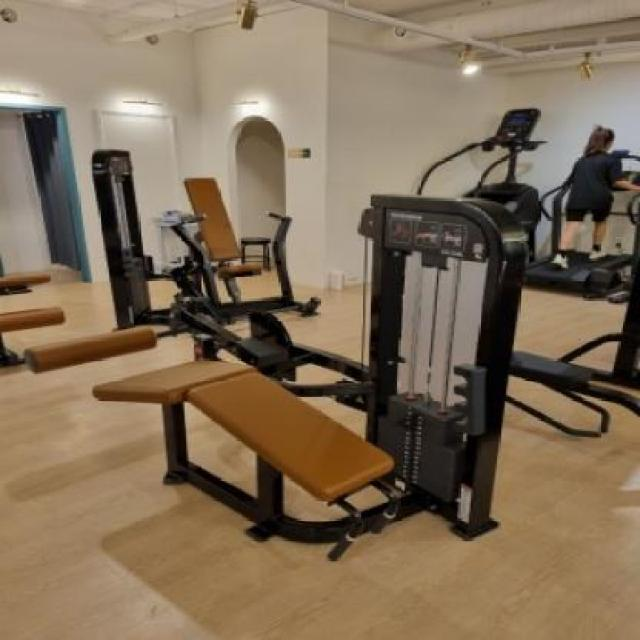reg curl machine: (25, 195, 548, 563)
